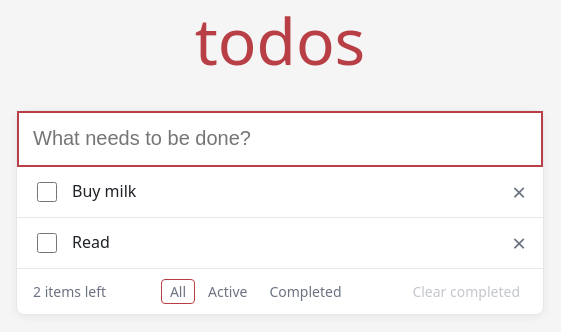
Test: App › toggles a todo and filters by status
Click the checkbox labelled "Buy milk": coordinates (47, 192) [37,182,57,202]
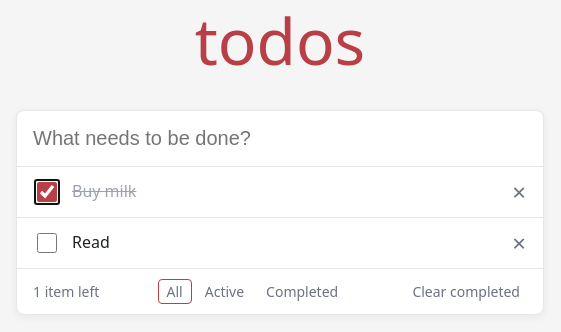
Result: the text "1 item left" is shown at [33,282,99,301]
Click the button "Active": coordinates (224, 291) [196,279,253,304]
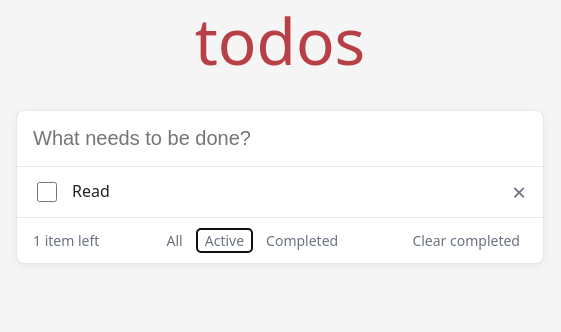
Expected: the text "Read" is shown, [72,180,110,203]
Result: the text "Buy milk" is gone
